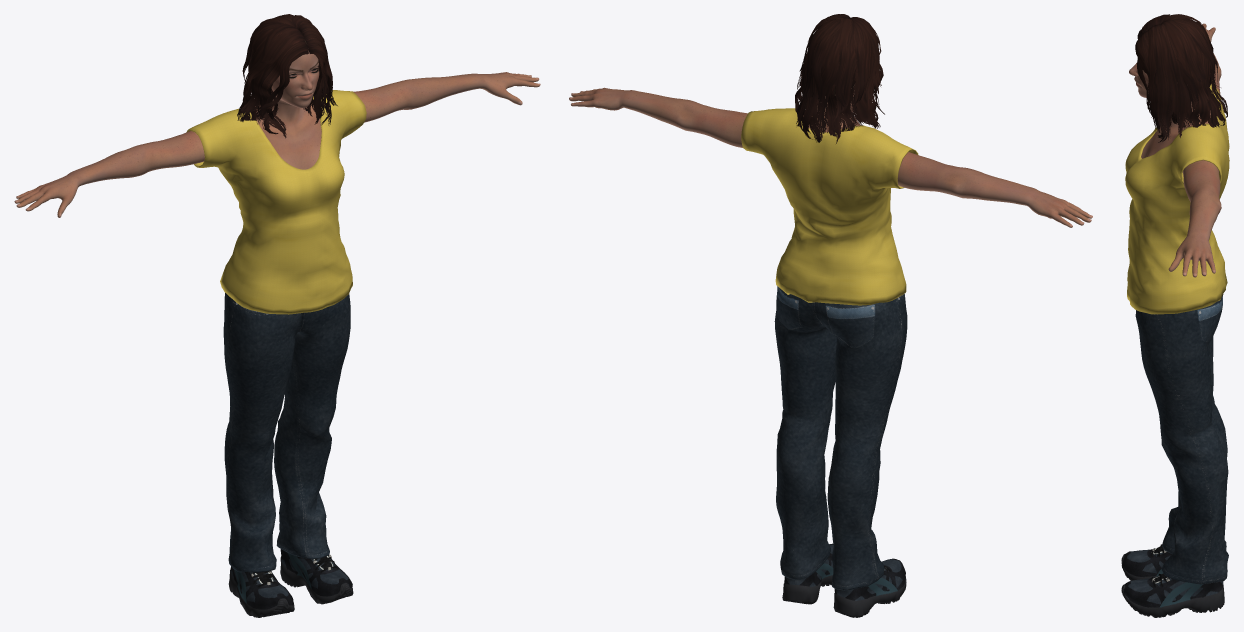
The model's file is DaniDefault-OBJ.obj.
The picture shows the model from 3 angles, left to right: view 1: azimuth 30°, elevation 25°; view 2: azimuth 150°, elevation 25°; view 3: azimuth 270°, elevation 25°; orthographic projection.
Visible parts, largest first — view 1: Bottoms, Tops, Body, Hair, Shoes; view 2: Bottoms, Tops, Body, Hair, Shoes; view 3: Bottoms, Tops, Hair, Body, Shoes.
Boxes of the visible parts, x1,y1,x2,y2 form: Bottoms: (223,293,350,572); Tops: (186,90,366,314); Body: (14,40,540,217); Hair: (237,14,337,138); Shoes: (228,549,353,617); Bottoms: (774,286,907,590); Tops: (741,108,918,305); Body: (569,85,1092,227); Hair: (795,14,884,143); Shoes: (782,543,906,617); Bottoms: (1135,294,1228,584); Tops: (1125,84,1229,314); Hair: (1135,14,1227,142); Body: (1129,23,1221,277); Shoes: (1121,544,1224,617).
Size of the model in its own units: 158 by 168 by 28.43.
Materials: 5 (5 with a texture image).
